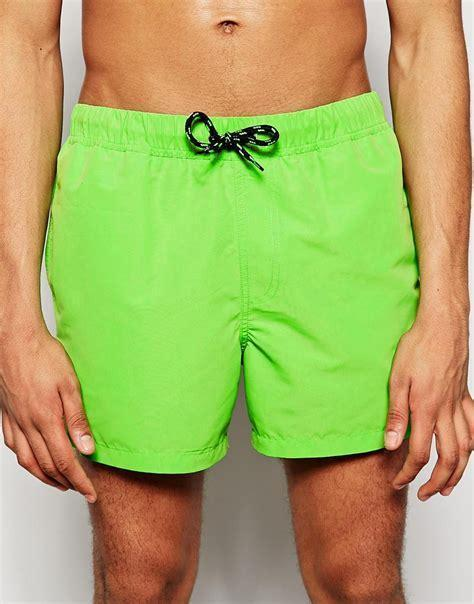short: (41, 92, 421, 474)
